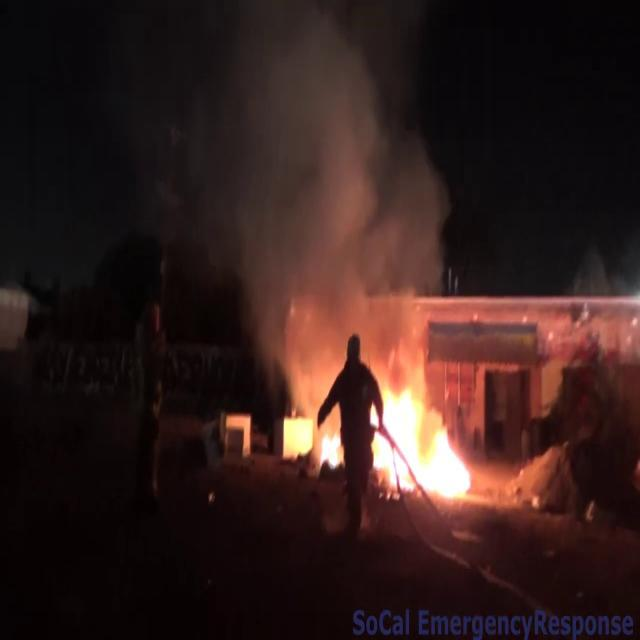Fire: (373, 354, 478, 502)
Smoke: (146, 1, 458, 353)
